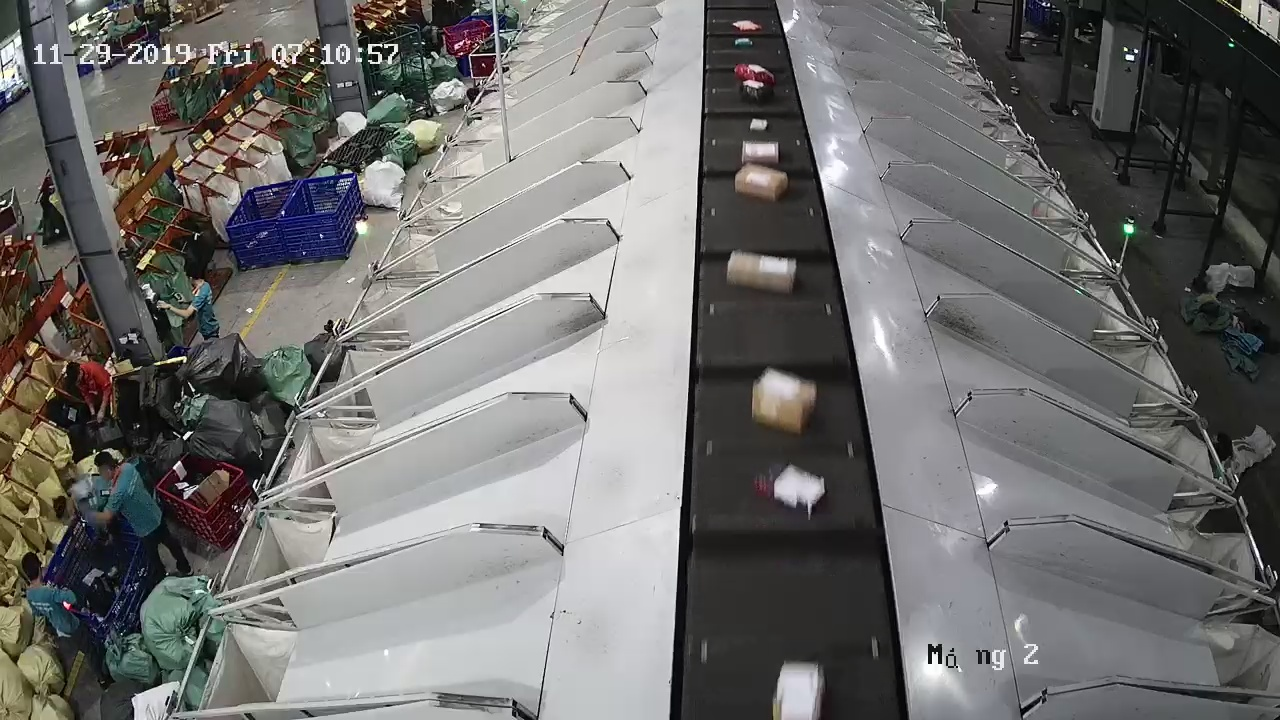parcel: (751, 367, 817, 437), (754, 463, 827, 513), (726, 248, 797, 295), (734, 163, 790, 203), (749, 117, 769, 133)
